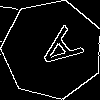A: (27, 24, 85, 79)
